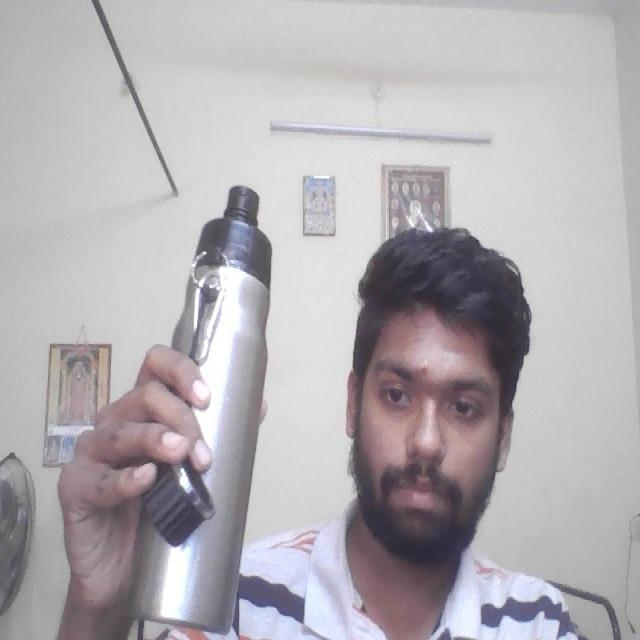Drinking: (140, 179, 279, 630)
